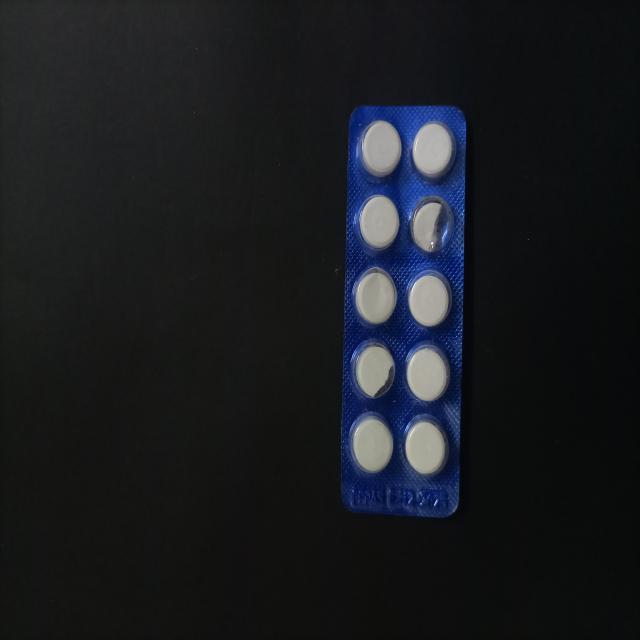defect: (407, 192, 456, 258), (348, 336, 396, 403)
